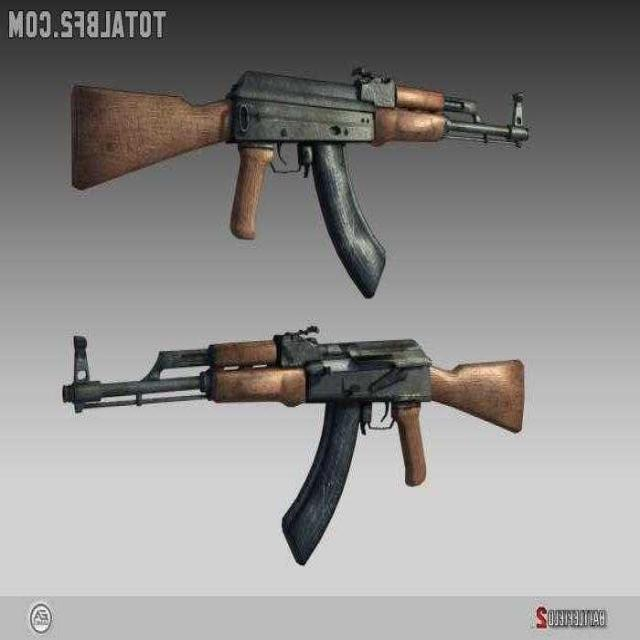heavyweapon: (49, 56, 557, 290), (57, 311, 552, 541)
